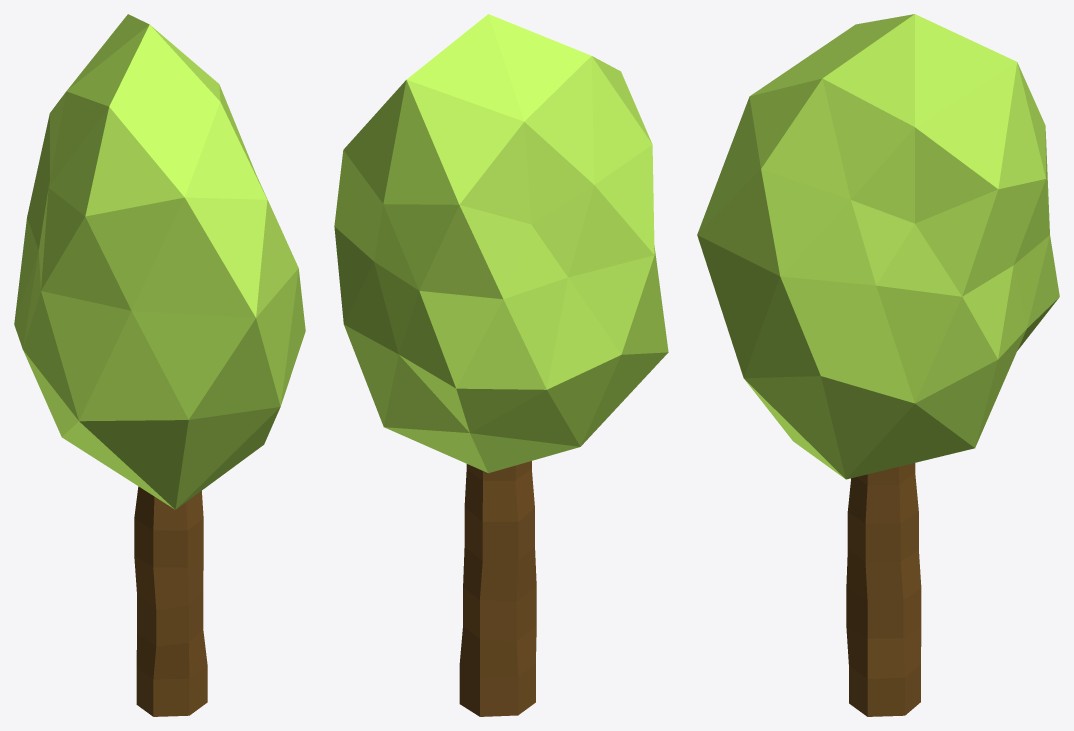
File: TreeSmall.fbx
3 renders of one model, left to right at view 1: azimuth 30°, elevation 25°; view 2: azimuth 150°, elevation 25°; view 3: azimuth 270°, elevation 25°, orthographic. The views are drawn at different scales.
Visible parts, largest first — view 1: Icosphere.002, Cylinder; view 2: Icosphere.002, Cylinder; view 3: Icosphere.002, Cylinder.
Part boxes in pixels (bbox=[...]): Icosphere.002: bbox=[14, 14, 305, 509]; Cylinder: bbox=[134, 486, 207, 716]; Icosphere.002: bbox=[334, 14, 668, 473]; Cylinder: bbox=[459, 461, 536, 716]; Icosphere.002: bbox=[697, 14, 1059, 479]; Cylinder: bbox=[846, 463, 921, 716].
Size of the model in its own units: 266 by 642 by 308.
